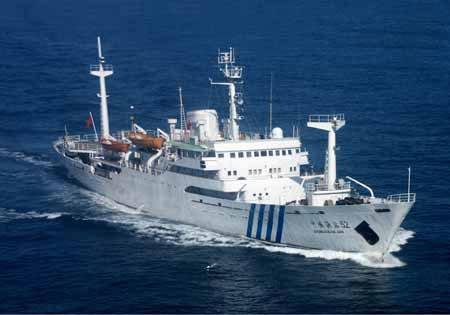warship: (51, 34, 418, 257)
